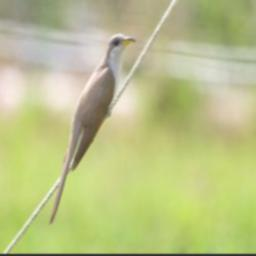Cuckoo: (46, 32, 137, 230)
